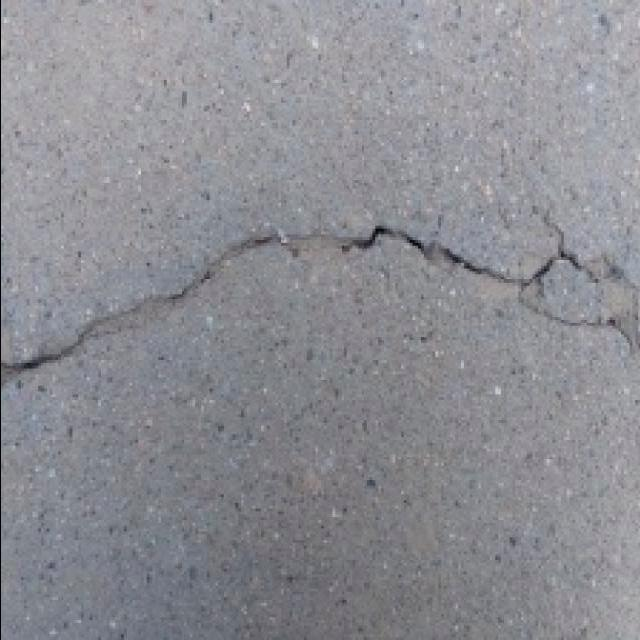SurfaceCrack: (8, 212, 640, 406)
